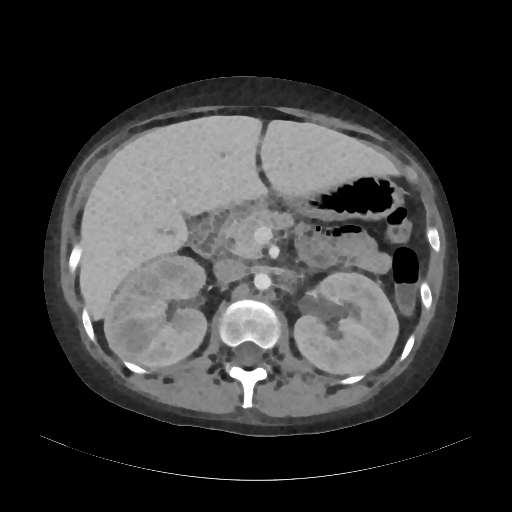Lesion: (98, 251, 212, 373)
